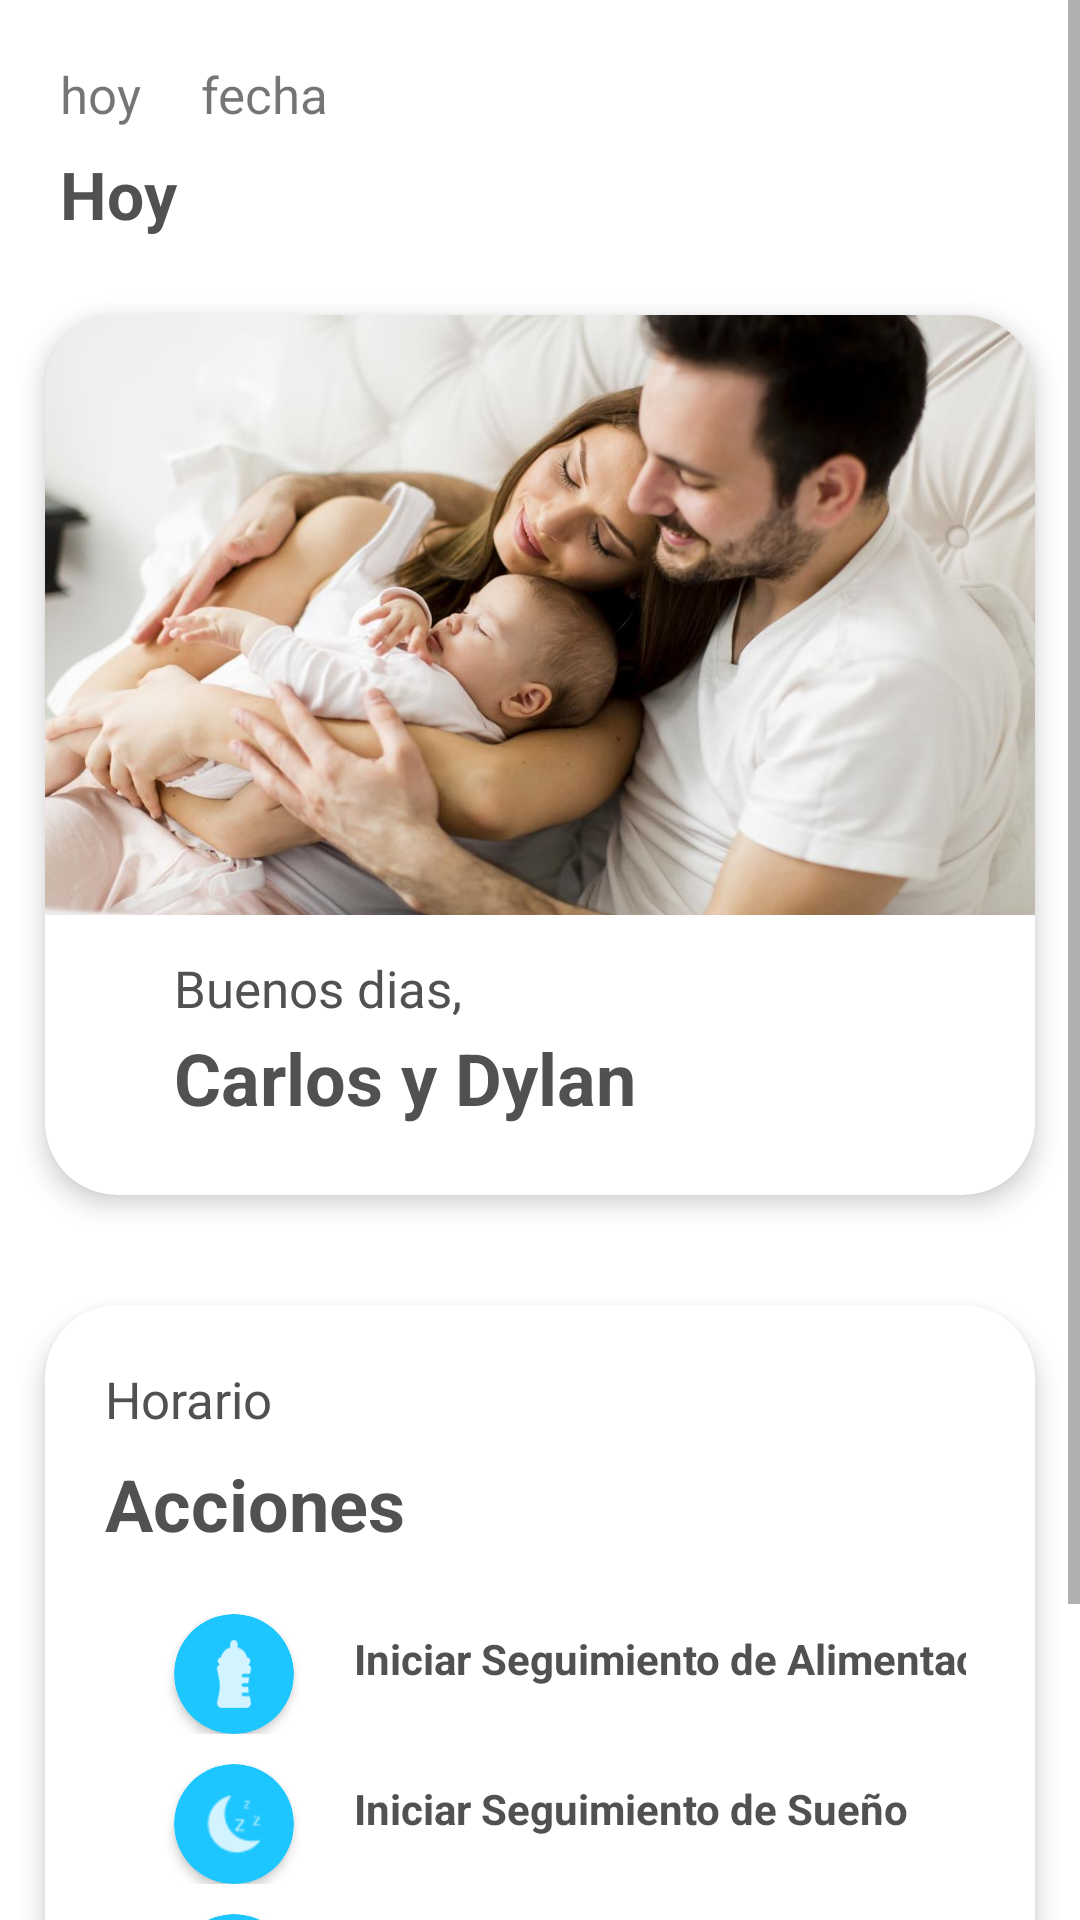

Point at icon controls on the screen. Image size 1080×1920, points as (x=x, y=y).
lun: (x=234, y=1824)
